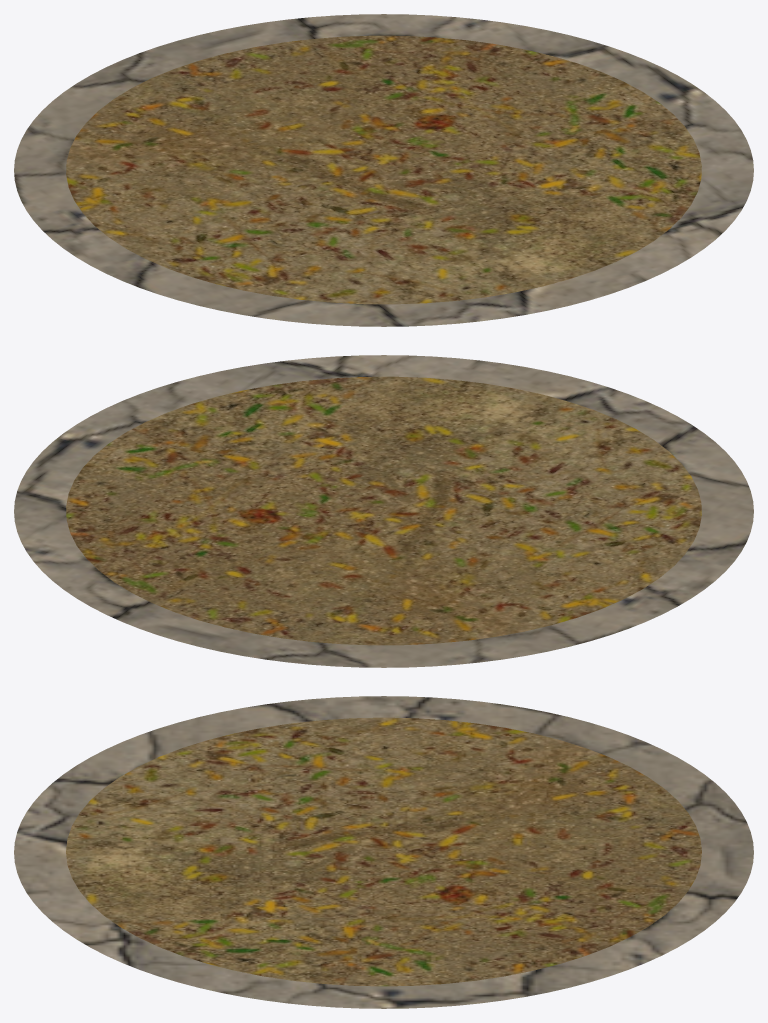
File: playground.glb
3 renders of one model, top to bottom at view 1: azimuth 30°, elevation 25°; view 2: azimuth 150°, elevation 25°; view 3: azimuth 270°, elevation 25°, orthographic.
Visible parts, largest first — view 1: pg_dirt_pad, pg_dirt_edge; view 2: pg_dirt_pad, pg_dirt_edge; view 3: pg_dirt_pad, pg_dirt_edge.
Boxes of the visible parts, bbox=[...] form: pg_dirt_pad: bbox=[66, 35, 701, 304]; pg_dirt_edge: bbox=[14, 14, 753, 326]; pg_dirt_pad: bbox=[66, 376, 701, 645]; pg_dirt_edge: bbox=[14, 355, 753, 667]; pg_dirt_pad: bbox=[66, 717, 701, 986]; pg_dirt_edge: bbox=[14, 696, 753, 1008].
Size of what is drawn, in the model's own units: 5.7 by 0.004 by 5.7.
Materials: 2 (2 with a texture image).
